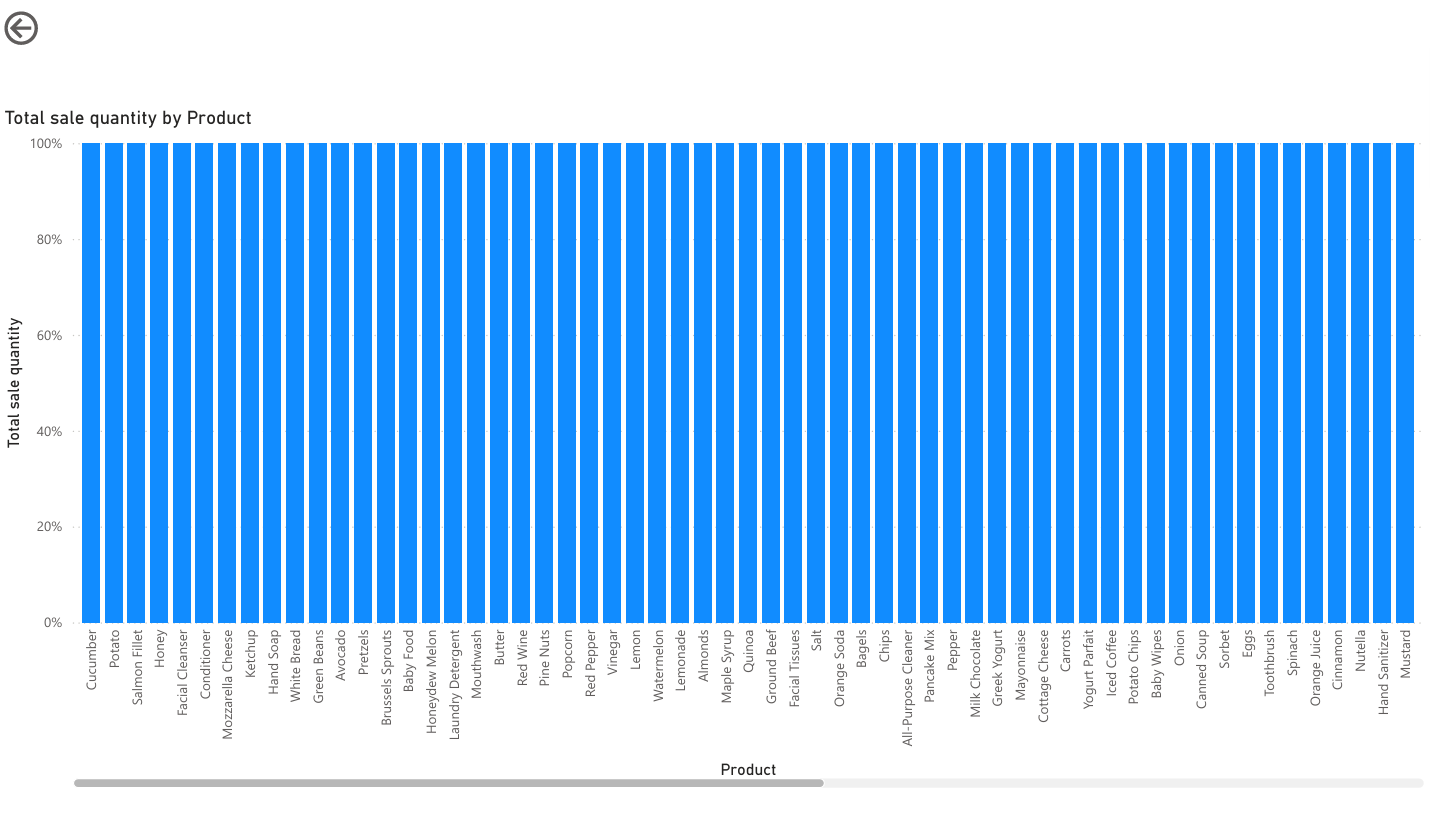

Layout of this report page (visuals, bound fields, positions):
{"tool":"powerbi","page":{"name":"Page 2","canvas":[1280,720],"ordinal":4},"visuals":[{"type":"hundredPercentStackedColumnChart","fields":{"Category":["Products.Product"],"Y":["MY MEASURES.Total sale quantity"]},"box":[0,90,1280,615],"z":0},{"type":"actionButton","box":[0,0,100,40],"z":1}]}

Visuals, with their boxes in screenshot pixels (x1, y1, x2, y2), scaled from the page's 1280x720 canvas onto the 1448x816 screenshot:
hundredPercentStackedColumnChart - Products.Product x MY MEASURES.Total sale quantity: region(0, 102, 1447, 799)
actionButton: region(0, 0, 113, 45)
